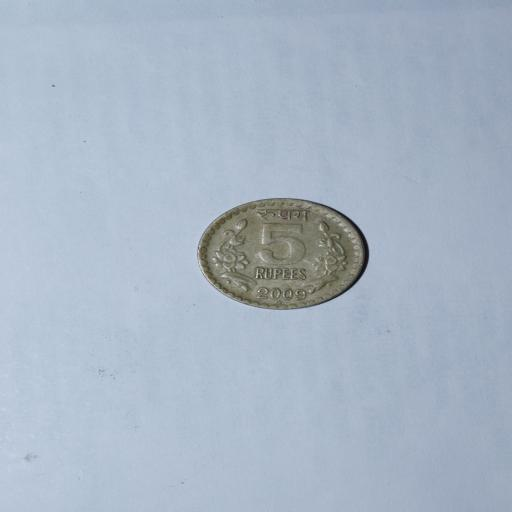rupee5: (196, 198, 368, 308)
